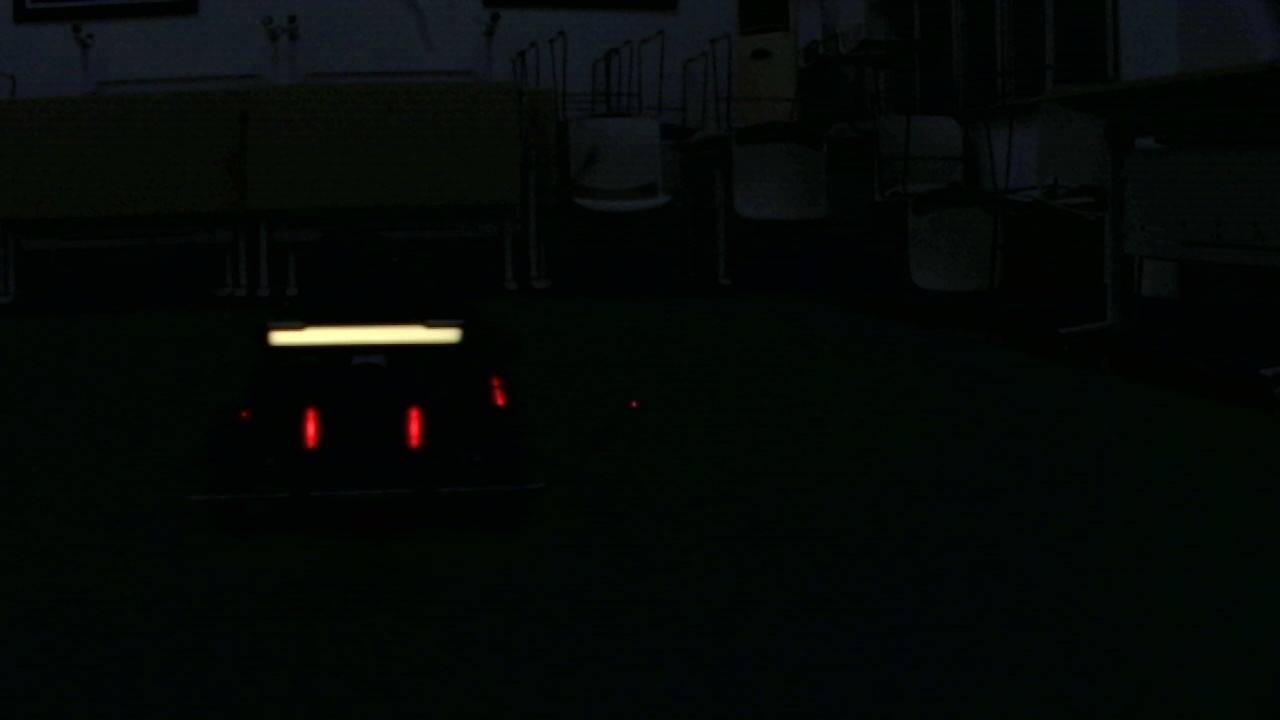lamp: (300, 405, 321, 450), (404, 405, 423, 448)
pair1: (304, 406, 422, 447)
